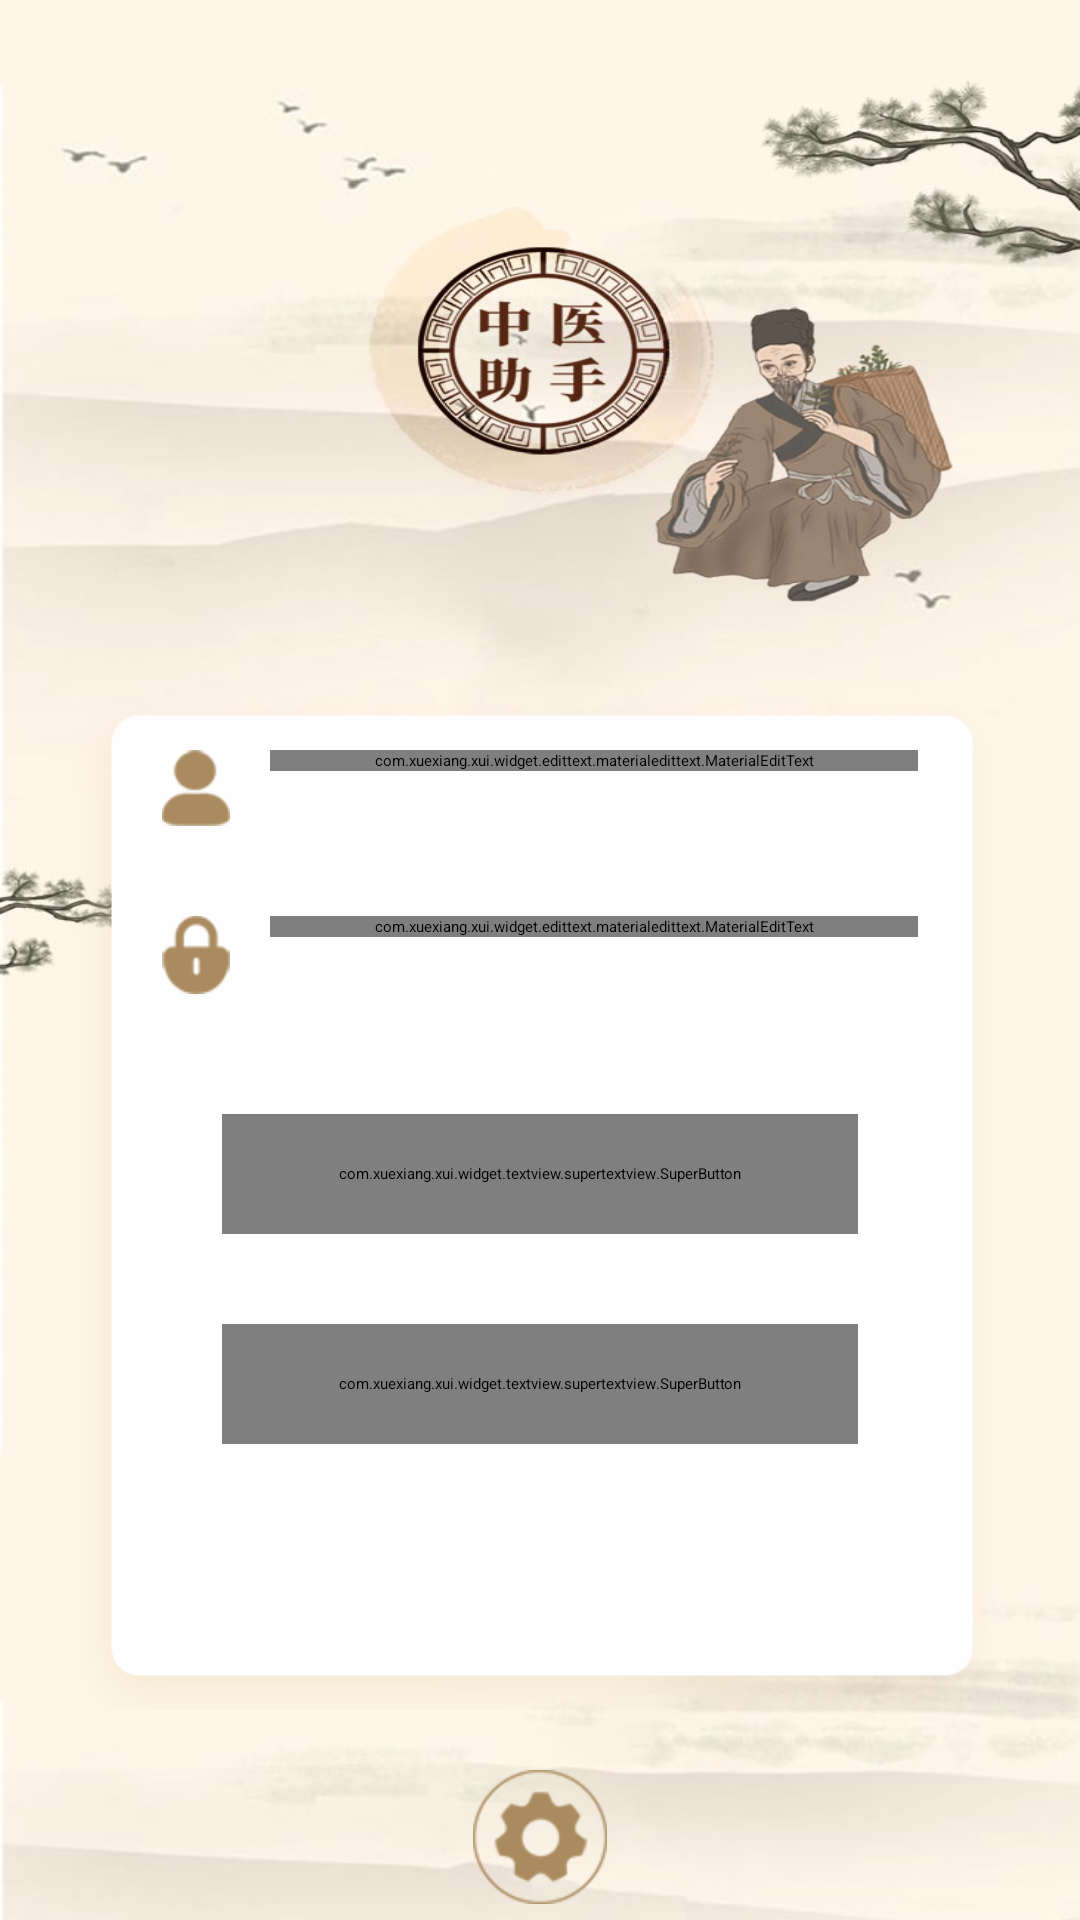

Icons on this 1080x1920 Android screen, each with its box as (x1, y1, x2, y2):
login name: (162, 750, 230, 826)
login password: (162, 916, 230, 994)
login setting: (473, 1770, 607, 1904)
